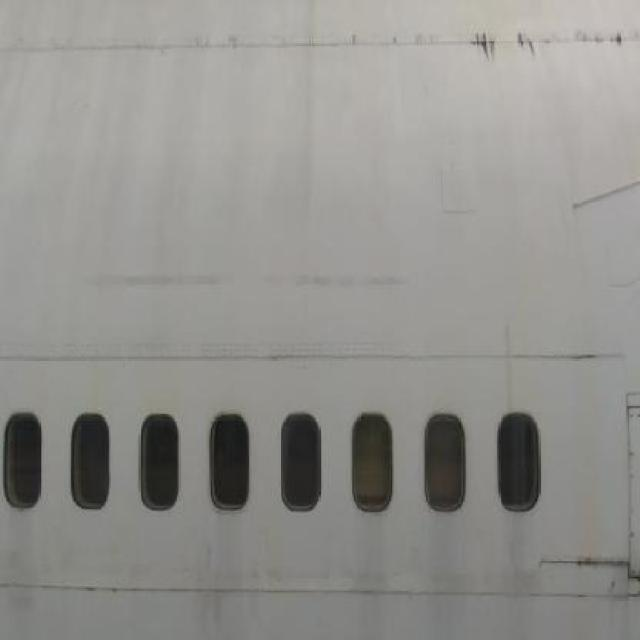Rust: (445, 16, 637, 67), (569, 548, 640, 592)
Scartch: (73, 252, 421, 300)
